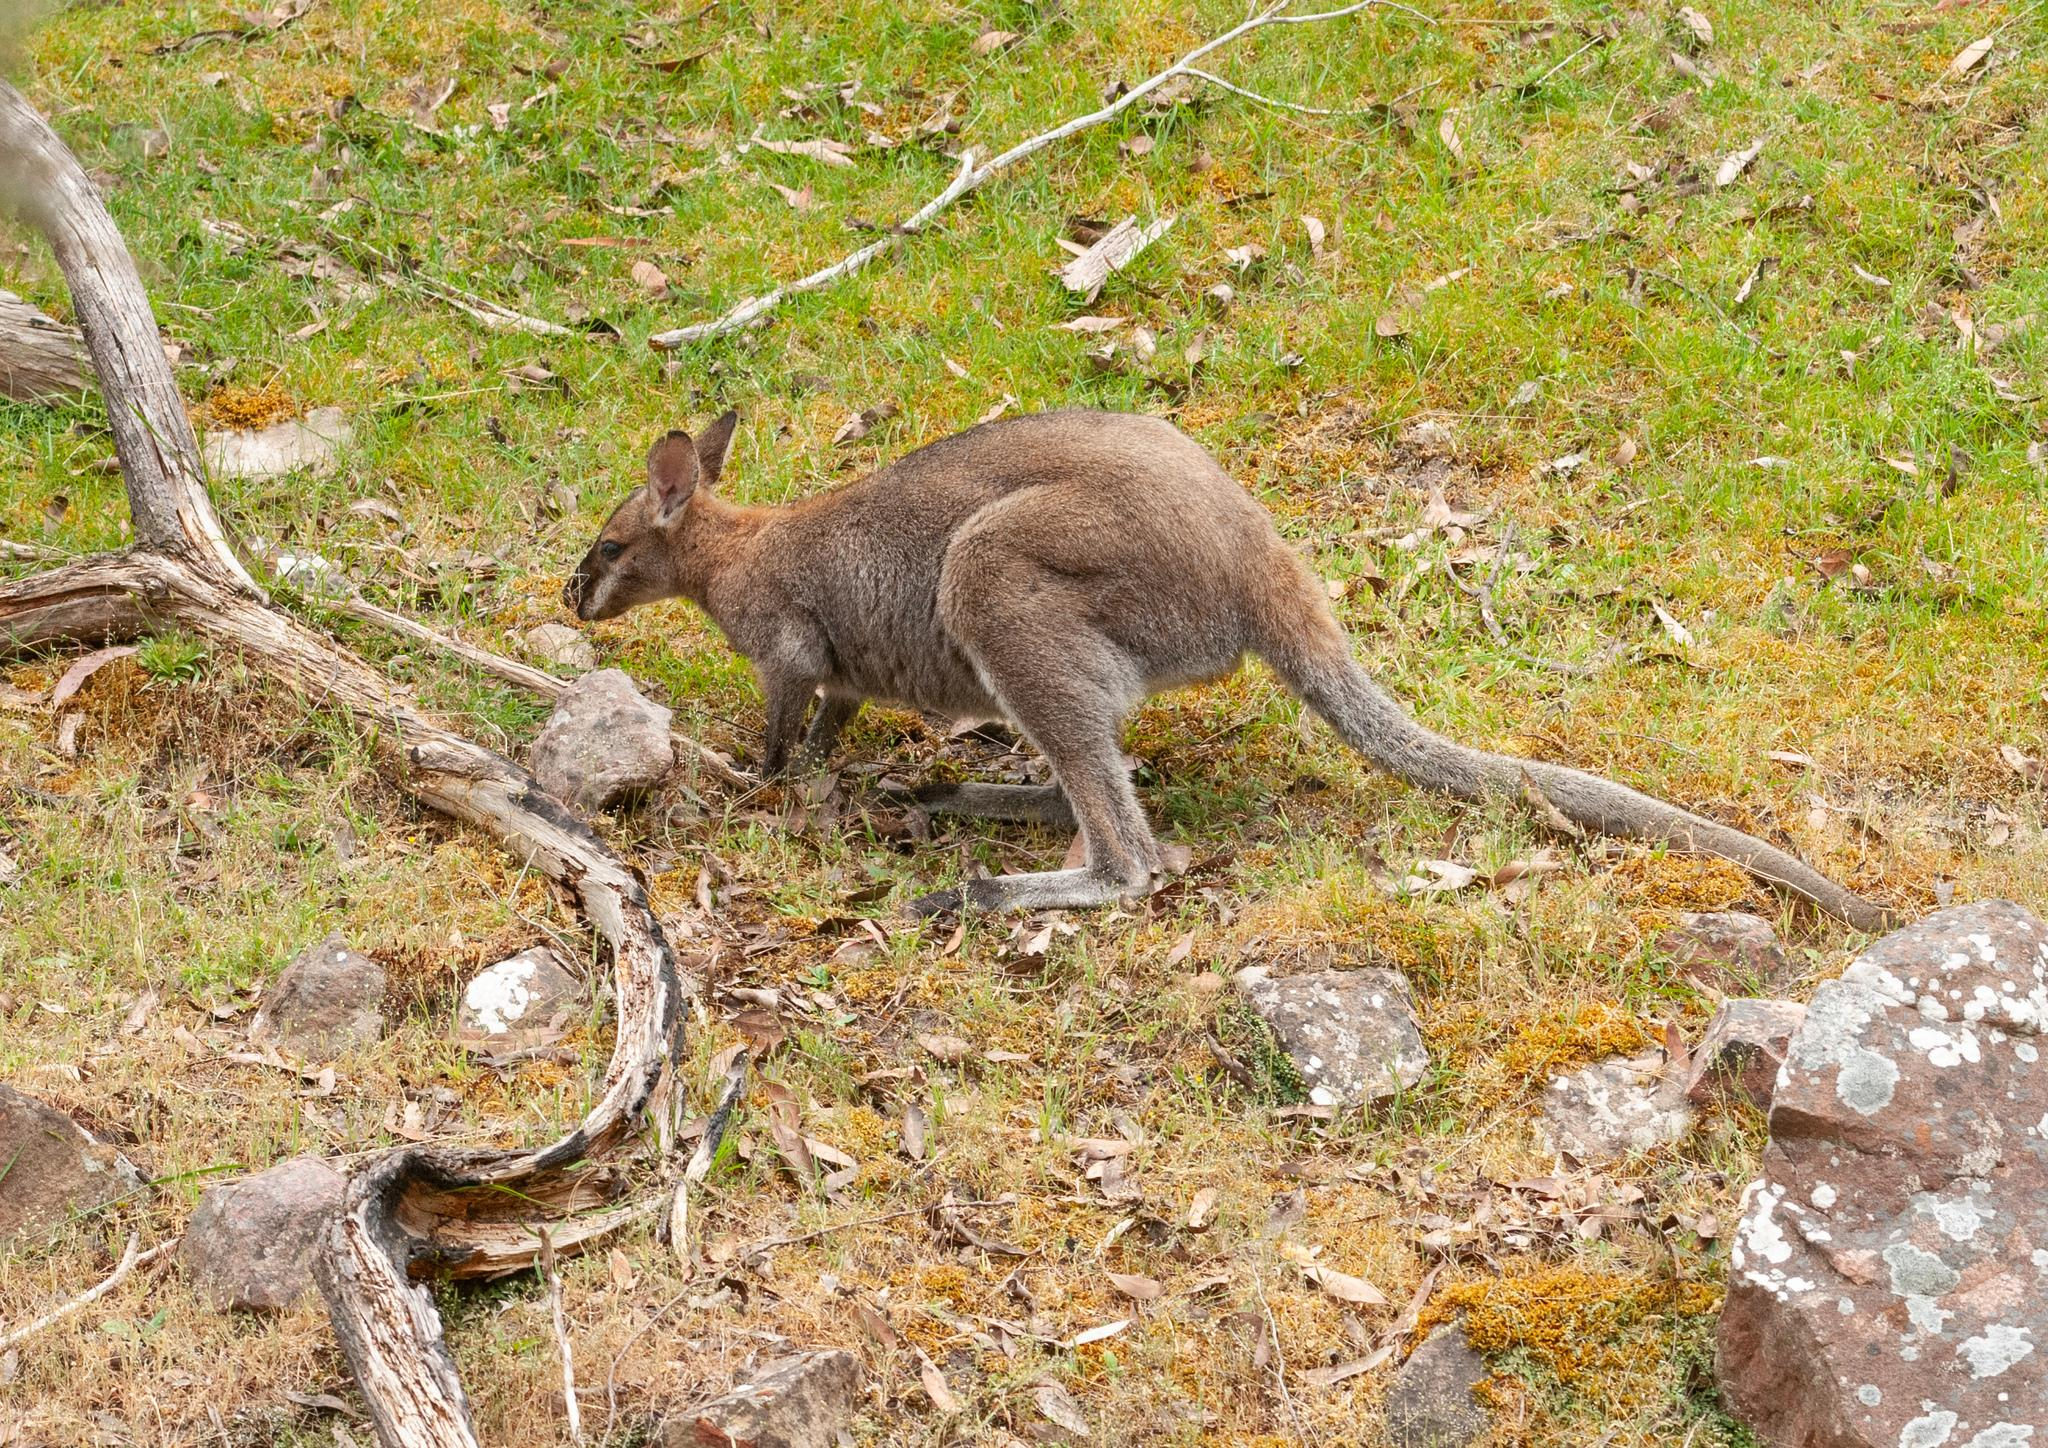Red-necked wallaby: (563, 404, 1905, 1003)
